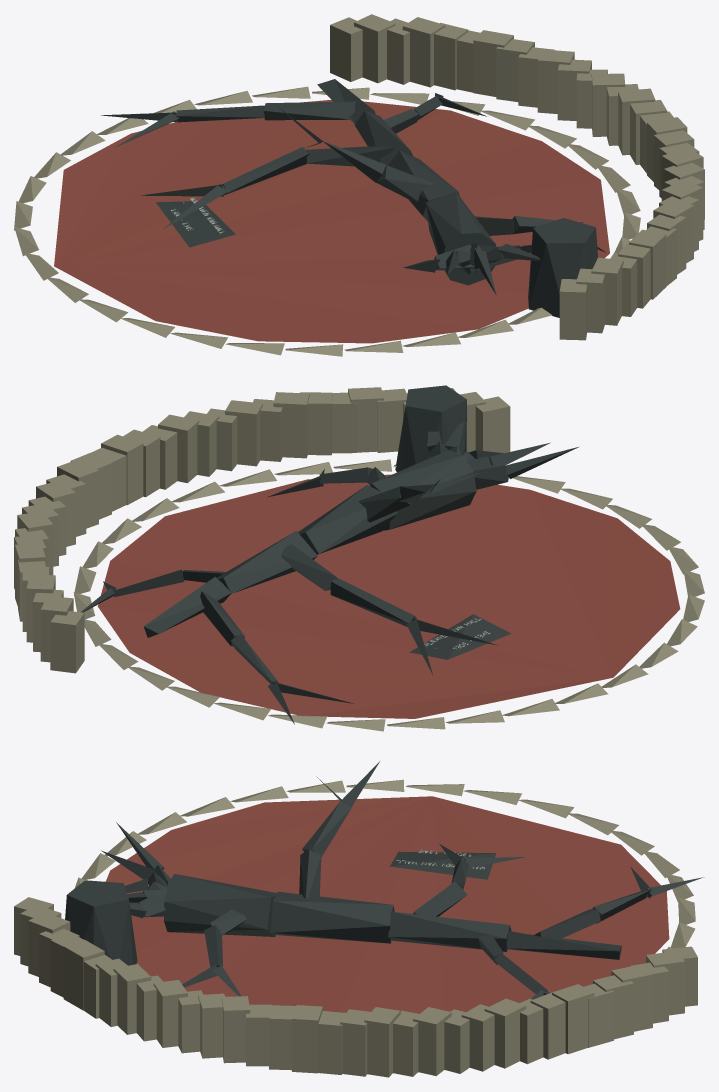
Rendered from walraven-van-hall.lod1.glb.
3 views of the same model, one above another, from view 1: azimuth 30°, elevation 25°; view 2: azimuth 150°, elevation 25°; view 3: azimuth 270°, elevation 25° (orthographic).
Parts seen in each view (by area): view 1: walraven-van-hall; view 2: walraven-van-hall; view 3: walraven-van-hall.
Part boxes in pixels (bbox=[...]): walraven-van-hall: bbox=[14, 14, 704, 356]; walraven-van-hall: bbox=[14, 385, 704, 731]; walraven-van-hall: bbox=[14, 761, 704, 1077].
Size of the model in its own units: 10.44 by 2.2 by 10.42.
